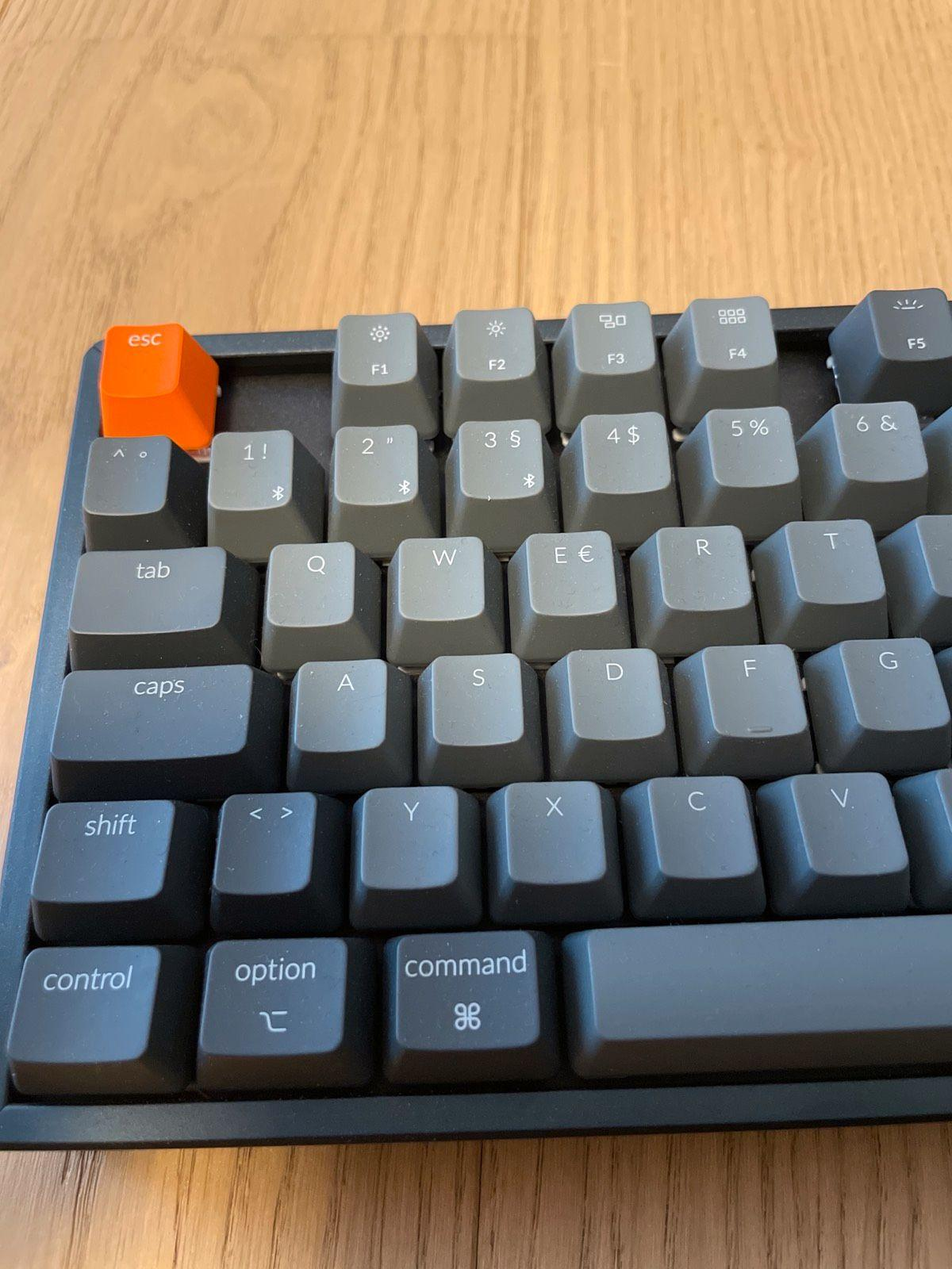1: (205, 426, 295, 511)
2: (331, 420, 421, 505)
3: (455, 414, 547, 501)
4: (578, 407, 674, 496)
5: (704, 401, 800, 489)
6: (829, 396, 929, 483)
a: (290, 654, 389, 753)
alt-left: (193, 932, 352, 1063)
c: (643, 770, 764, 881)
caret: (79, 431, 171, 514)
d: (563, 642, 667, 741)
e: (522, 526, 620, 616)
f: (696, 638, 809, 738)
g: (837, 632, 950, 731)
keyboard: (4, 279, 946, 1145)
less: (214, 789, 325, 901)
q: (263, 536, 358, 627)
r: (654, 520, 754, 611)
s: (425, 648, 526, 747)
shift-left: (25, 795, 182, 904)
shift-lock: (45, 659, 260, 762)
space: (567, 916, 947, 1045)
strg-left: (2, 940, 165, 1065)
t: (785, 513, 887, 604)
tab: (63, 543, 228, 634)
v: (788, 767, 914, 879)
w: (393, 532, 487, 621)
x: (497, 776, 613, 888)
y: (354, 781, 465, 893)
